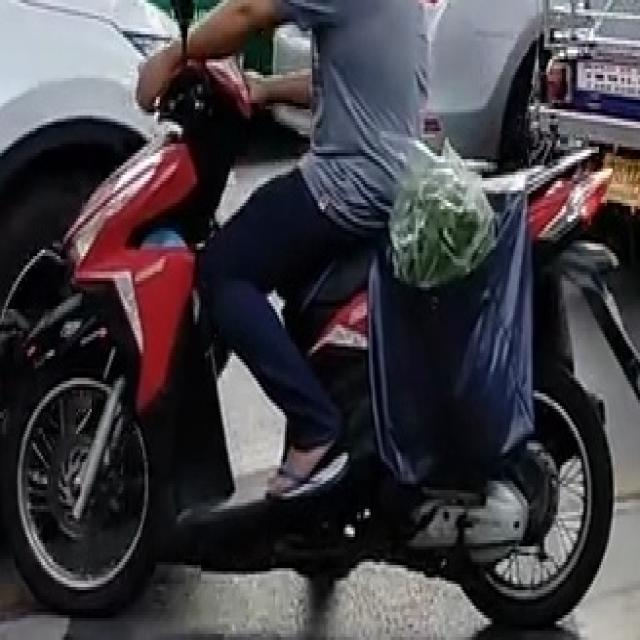tyre: (456, 359, 614, 628)
